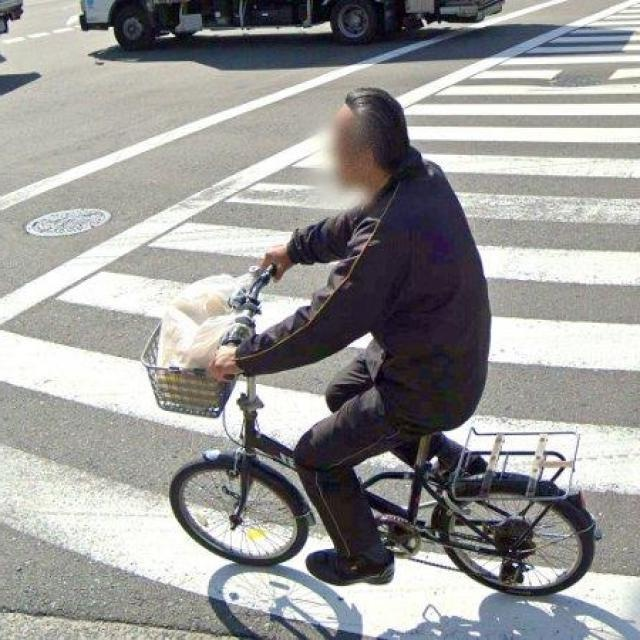bicycle: (111, 254, 637, 614)
